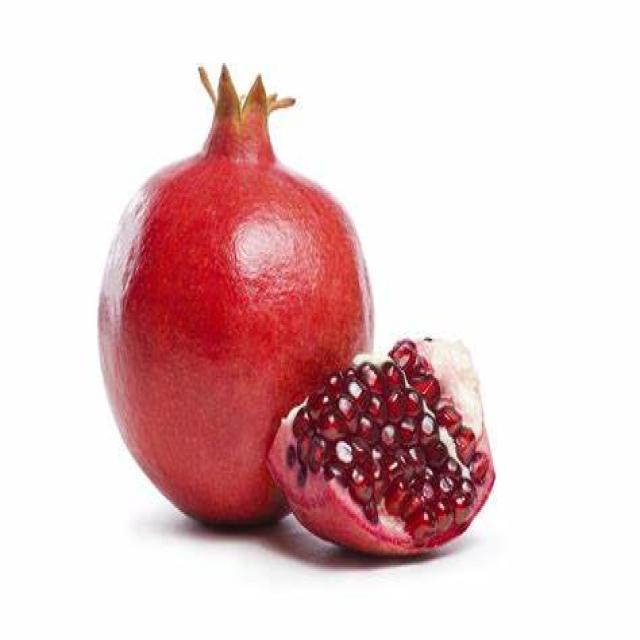Pomegranate: (96, 68, 371, 536), (275, 340, 497, 556)
